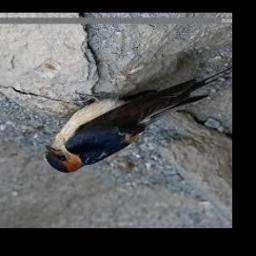Swallow: (45, 67, 232, 173)
